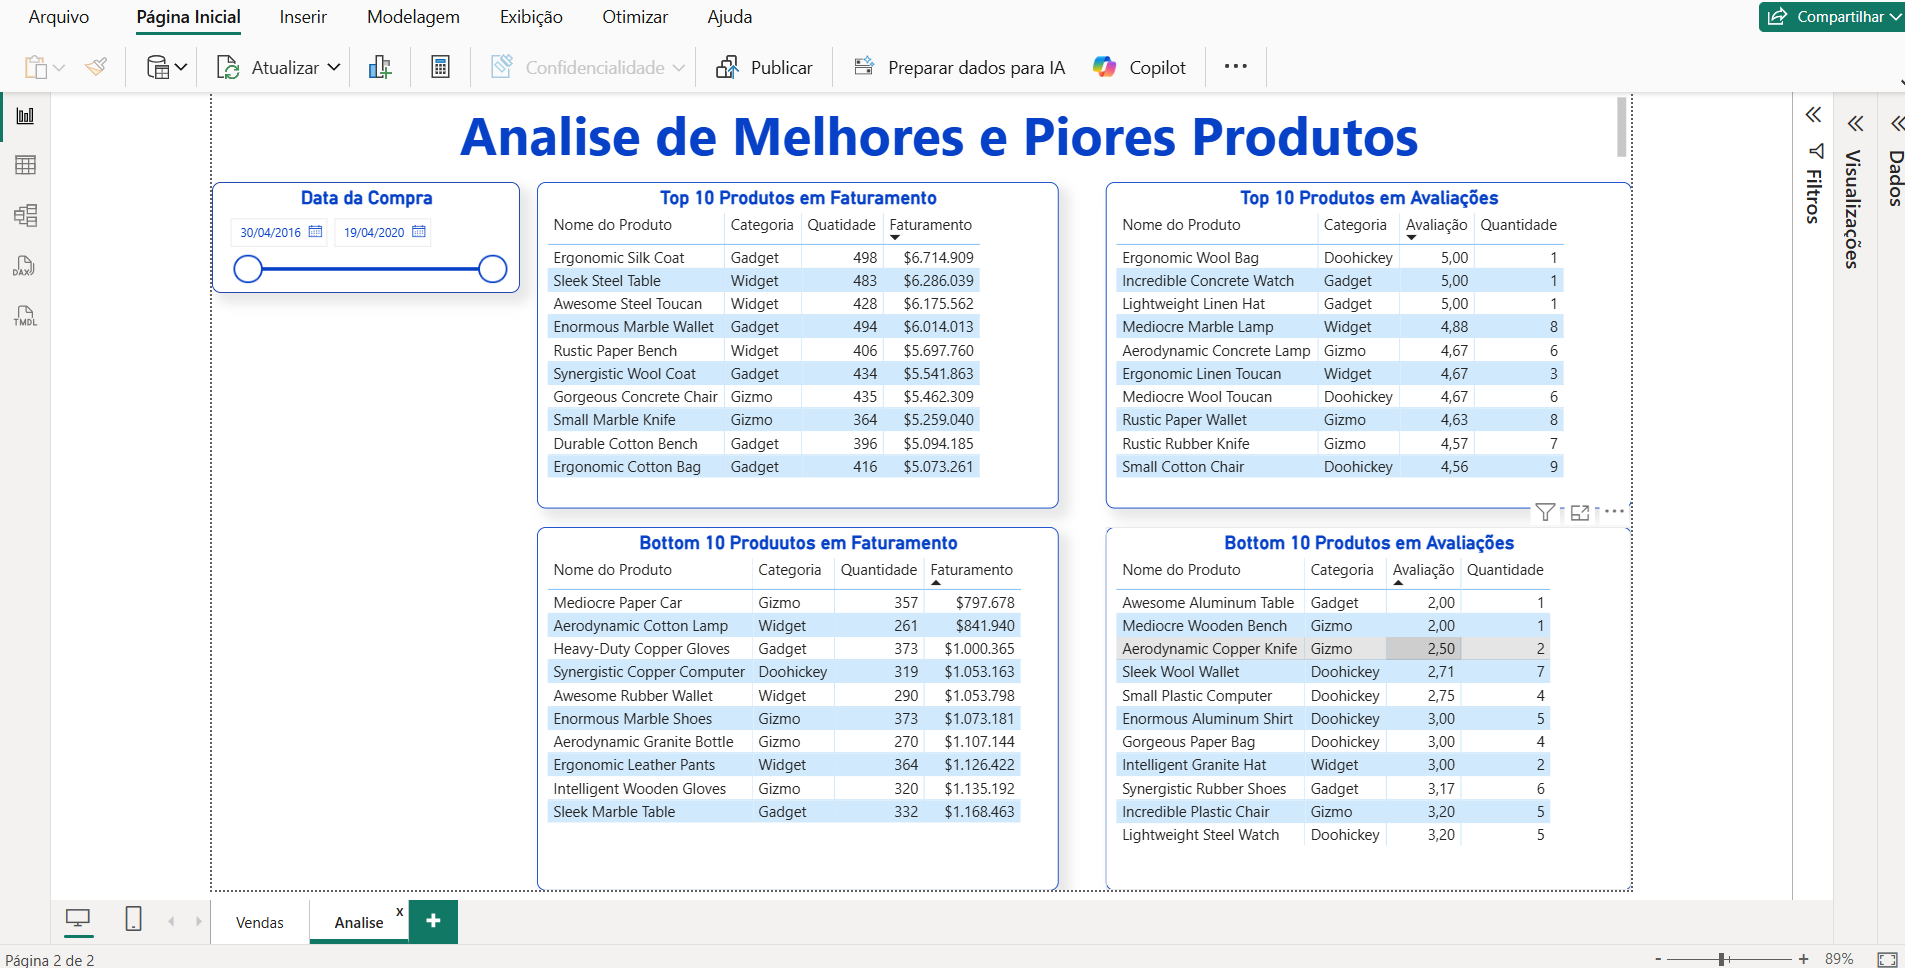

The dashboard page shown, as its layout file describes it:
{"tool":"powerbi","page":{"name":"Analise","canvas":[1280,720],"ordinal":1},"visuals":[{"type":"tableEx","title":"Top 10 Produtos em Faturamento","fields":{"Values":["Products.Title","Products.Category","Sum(Orders.Quantity)","Sum(Orders.Faturamento)"]},"box":[292.6,81.5,470.4,294.4],"z":0},{"type":"tableEx","title":"Bottom 10 Produutos em Faturamento","fields":{"Values":["Products.Title","Products.Category","Sum(Orders.Quantity)","Sum(Orders.Faturamento)"]},"box":[292.6,392.6,470.4,327.8],"z":1000},{"type":"slicer","title":"Data da Compra","fields":{"Values":["Orders.Created At"]},"box":[0,81.5,277.8,100],"z":2000},{"type":"tableEx","title":"Top 10 Produtos em Avaliações","fields":{"Values":["Products.Title","Products.Category","Avg(Reviews.Rating)","Reviews.ID"]},"box":[805.6,81.5,474.1,294.4],"z":3000},{"type":"tableEx","title":"Bottom 10 Produtos em Avaliações","fields":{"Values":["Products.Title","Products.Category","Avg(Reviews.Rating)","Reviews.ID"]},"box":[805.6,392.6,474.1,327.8],"z":4000},{"type":"textbox","box":[0,0,1280,68.3],"z":5000}]}

Visuals, with their boxes on the page's 1280x720 design canvas (x1, y1, x2, y2). These are canvas units, not pixel positions in the 1905x968 screenshot, which may show the page scaled, cropped or inside an application window:
"Top 10 Produtos em Faturamento" tableEx: [left=293, top=82, right=763, bottom=376]
"Bottom 10 Produutos em Faturamento" tableEx: [left=293, top=393, right=763, bottom=720]
"Data da Compra" slicer: [left=0, top=82, right=278, bottom=182]
"Top 10 Produtos em Avaliações" tableEx: [left=806, top=82, right=1280, bottom=376]
"Bottom 10 Produtos em Avaliações" tableEx: [left=806, top=393, right=1280, bottom=720]
textbox: [left=0, top=0, right=1280, bottom=68]
